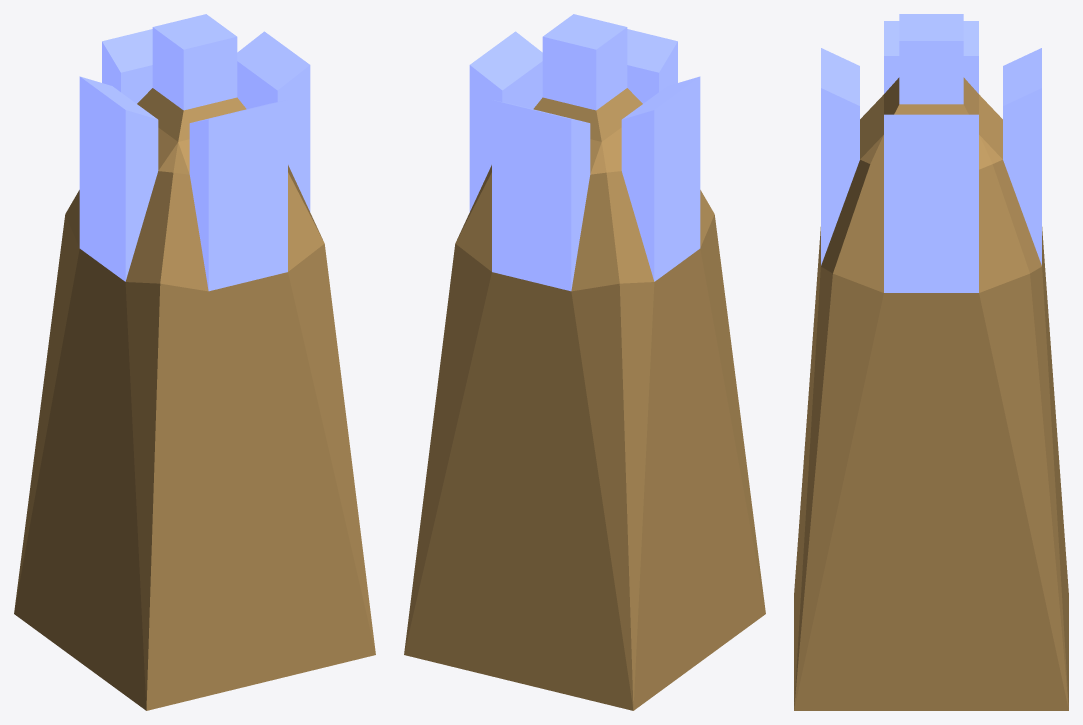
Rendered from pyramid_L_Aztec.fbx.
3 renders of one model, left to right at view 1: azimuth 30°, elevation 25°; view 2: azimuth 150°, elevation 25°; view 3: azimuth 270°, elevation 25°, orthographic. The views are drawn at different scales.
Parts seen in each view (by area): view 1: Cube; view 2: Cube; view 3: Cube.
Boxes of the visible parts, <box> form: Cube: <box>14,14,375,710</box>; Cube: <box>404,14,765,710</box>; Cube: <box>794,14,1068,710</box>.
Bounding box in the file's own units: 200 × 502 × 200.
